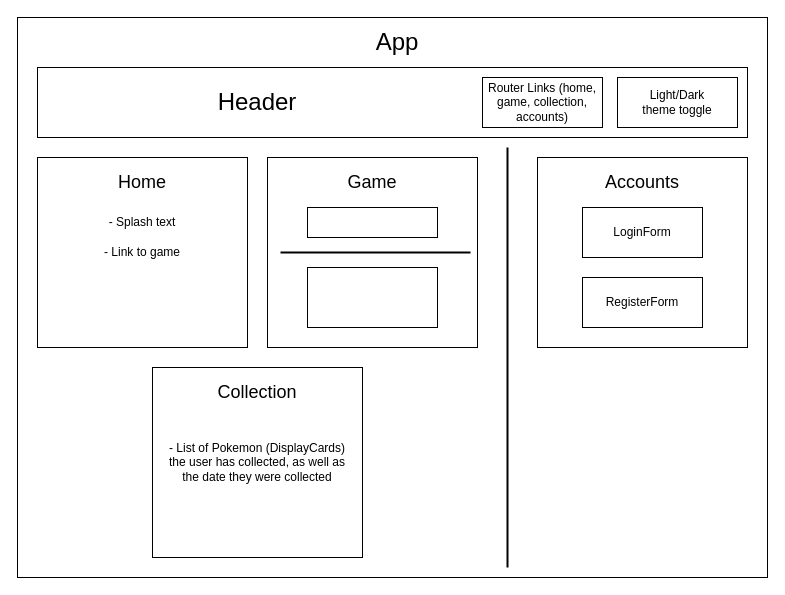
Some shapes in this 785 by 595 pixel diagram are drawn without their labels. Each missing label, with the centre of its shape:
"Claim Button" goes at pixel 372 222.
"DisplayCard" goes at pixel 372 297.
